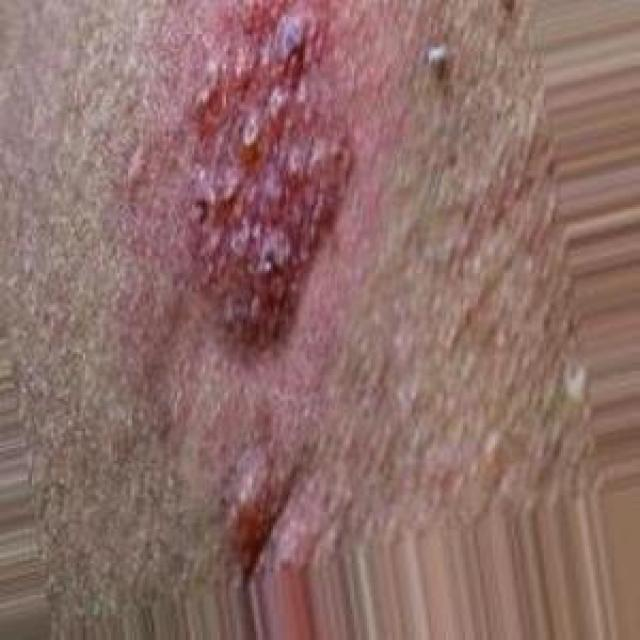Shingles: (179, 0, 357, 352)
